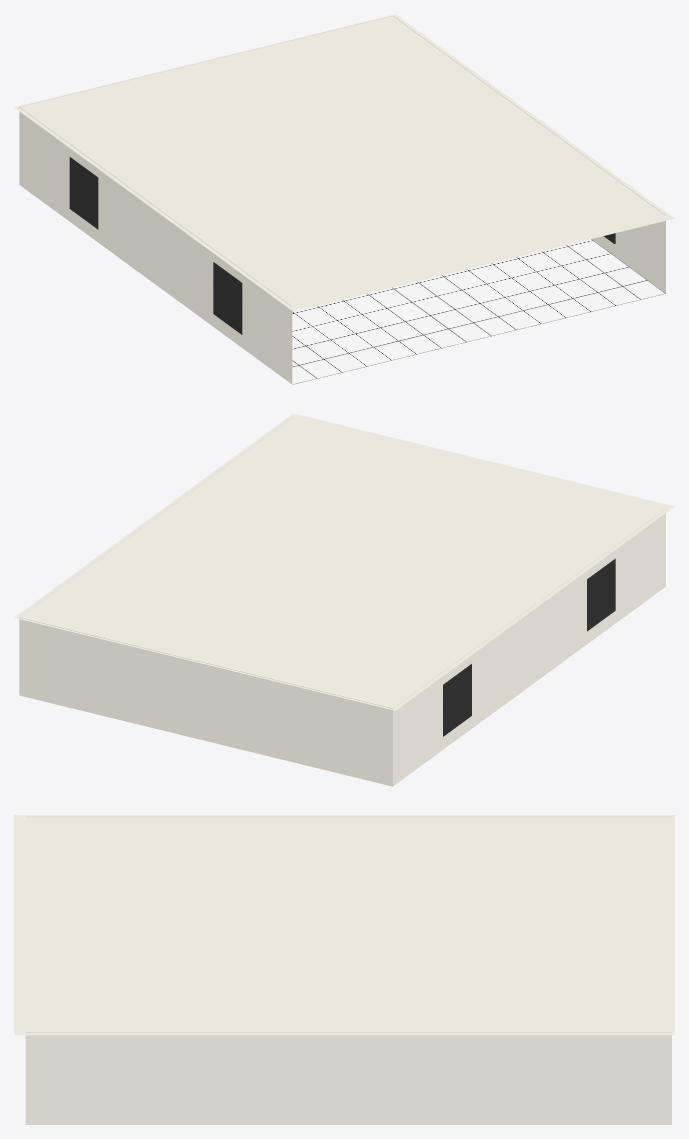
Rendered from space.glb.
The picture shows the model from 3 angles, top to bottom: view 1: azimuth 30°, elevation 25°; view 2: azimuth 150°, elevation 25°; view 3: azimuth 270°, elevation 25°; orthographic projection. The views are drawn at different scales.
Parts seen in each view (by area): view 1: tran_nha, san_nha, tuong, hoanh_thanh_bonus_2, hoanh_thanh_bonus_1; view 2: tran_nha, tuong, hoanh_thanh_bonus_1, hoanh_thanh_bonus_2; view 3: tran_nha, tuong.
Part boxes in pixels (x1,y1,x2,y2): tran_nha: [14, 14, 674, 311]; san_nha: [292, 239, 665, 384]; tuong: [19, 15, 665, 384]; hoanh_thanh_bonus_2: [69, 157, 98, 229]; hoanh_thanh_bonus_1: [213, 262, 242, 334]; tran_nha: [14, 413, 674, 710]; tuong: [19, 418, 665, 786]; hoanh_thanh_bonus_1: [587, 558, 615, 631]; hoanh_thanh_bonus_2: [443, 664, 471, 736]; tran_nha: [14, 815, 674, 1035]; tuong: [25, 816, 671, 1124].
Bounding box in the file's own units: 15.33 × 3 × 19.43.
2 materials, 2 textured.
